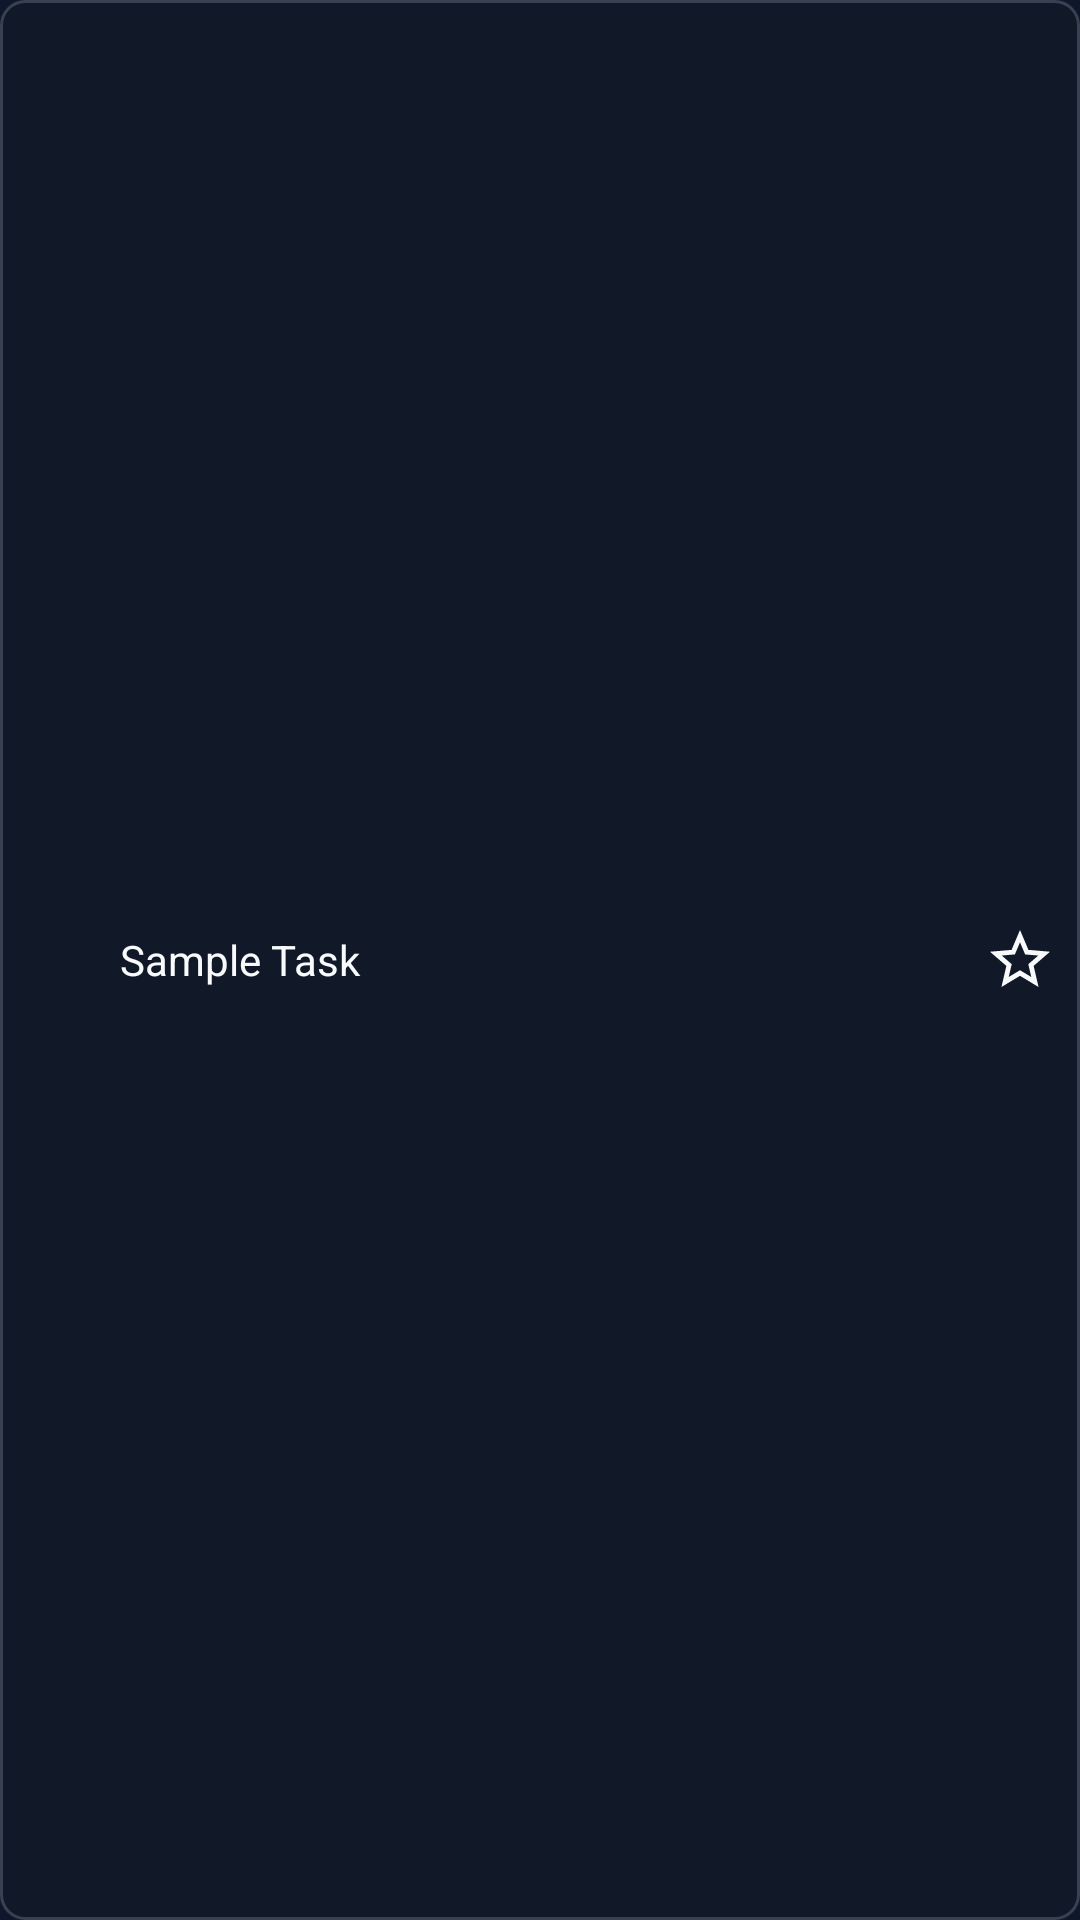

Where icons sit on this 1080px x 1920px app screen, as (x1, y1, x2, y2):
星标任务: (990, 930, 1050, 987)
